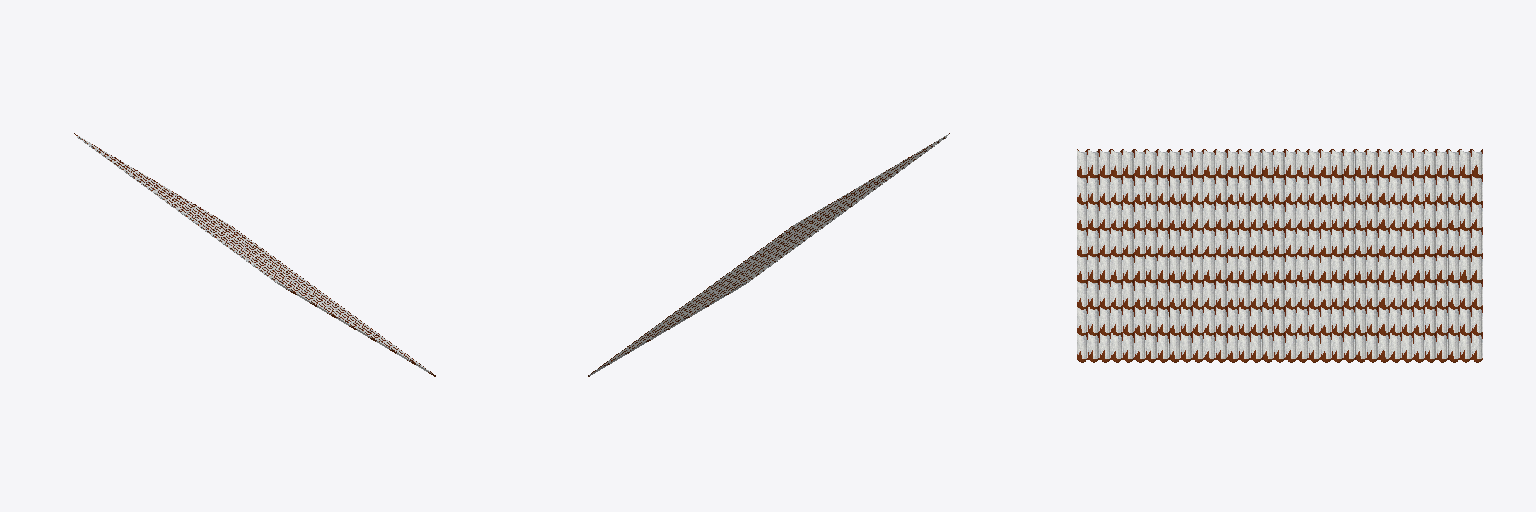
The picture shows the model from 3 angles: view 1: azimuth 30°, elevation 25°; view 2: azimuth 150°, elevation 25°; view 3: azimuth 270°, elevation 25°; orthographic projection.
Parts seen in each view (by area): view 1: ROOF_ROOF_T001; view 2: ROOF_ROOF_T001; view 3: ROOF_ROOF_T001.
Boxes of the visible parts, x1,y1,x2,y2 form: ROOF_ROOF_T001: [74, 133, 435, 376]; ROOF_ROOF_T001: [588, 133, 949, 376]; ROOF_ROOF_T001: [1077, 149, 1482, 362].
Bounding box in the file's own units: 257 × 208 × 566.
Materials: 1 (1 with a texture image).